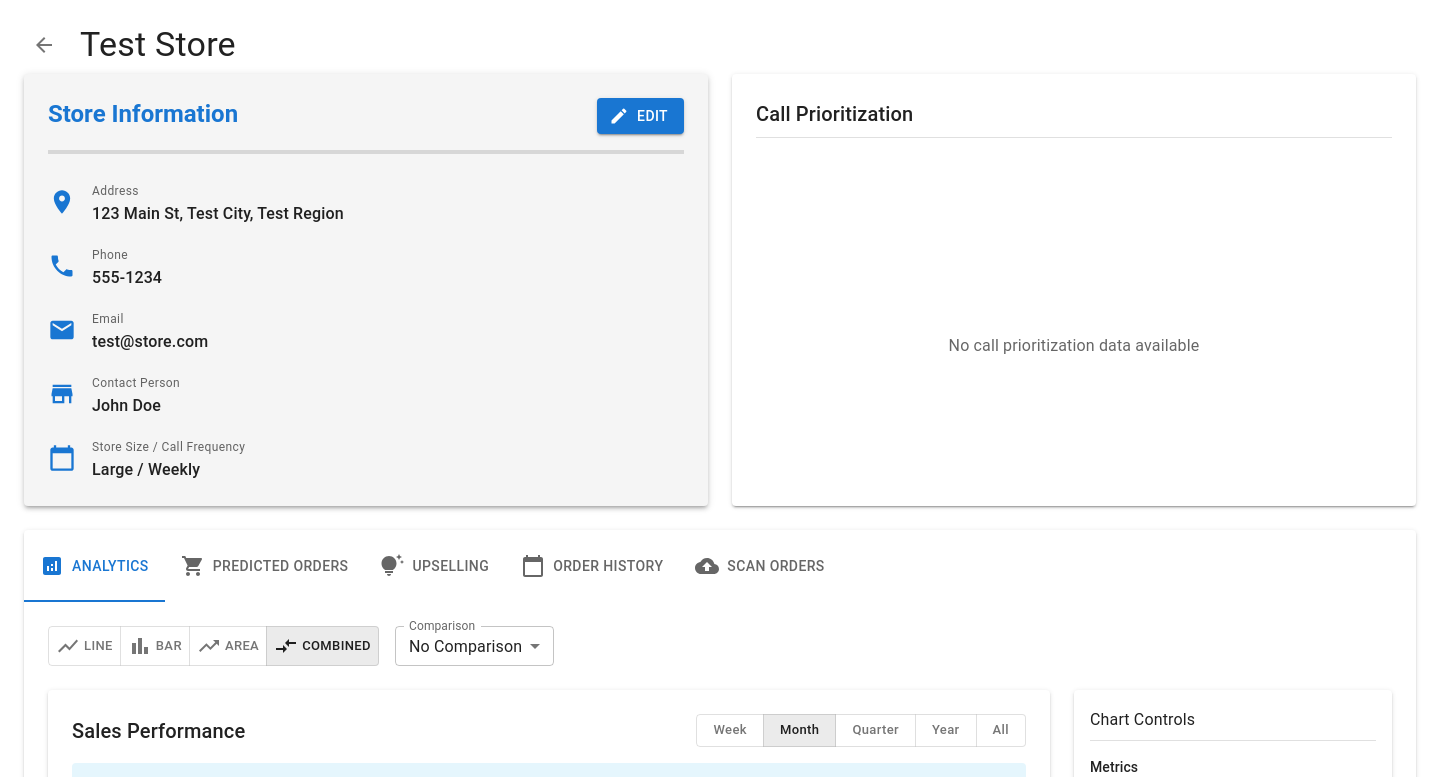
StoreDetailPage - Data Mapping and Display › Error Handling › handles empty responses
Check: the heading "Test Store" is shown, box [80,24,236,66]
# Should show empty state messages
Click the tab "Predicted Orders" at [265, 566], box [165,530,364,602]
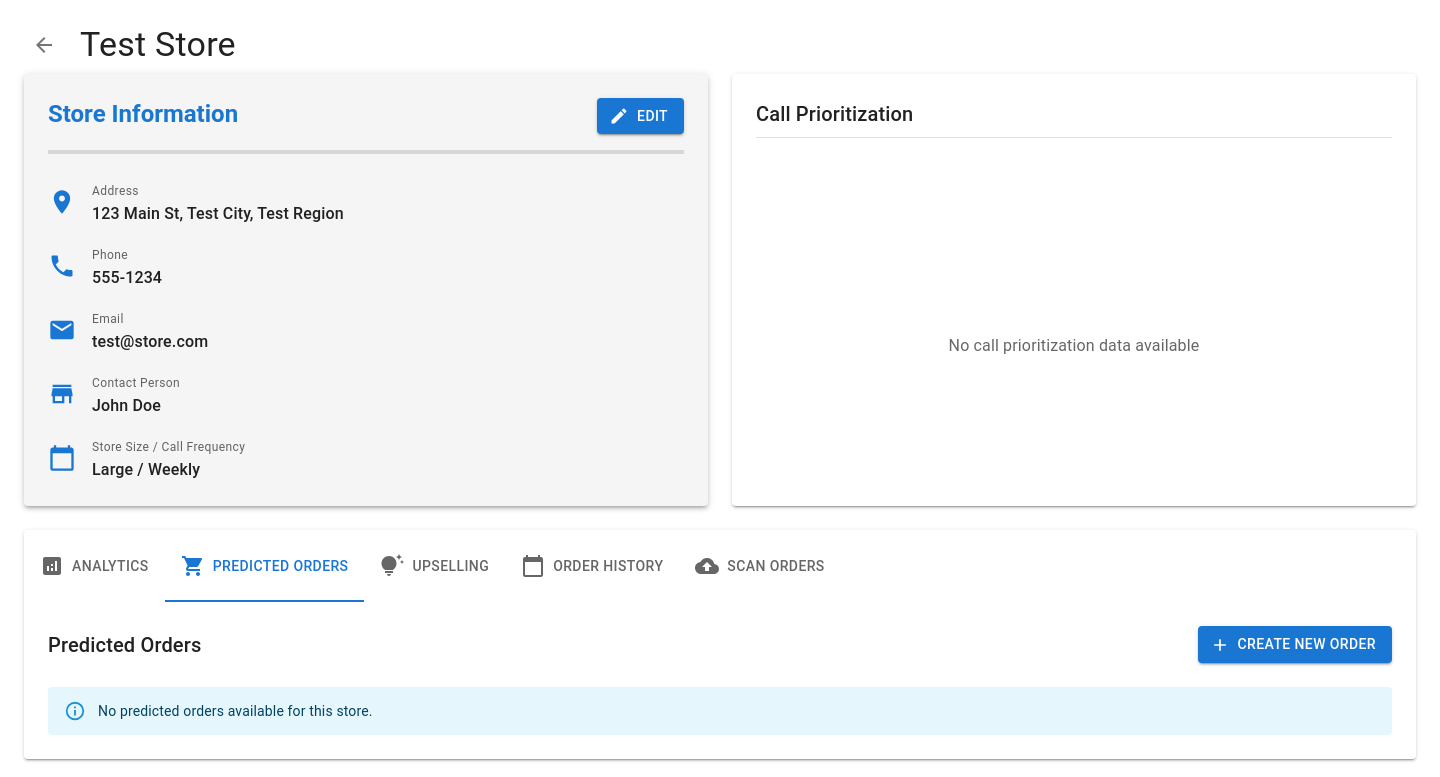
Check: the text "No predicted orders available for this store." is shown, box [98,703,373,719]
